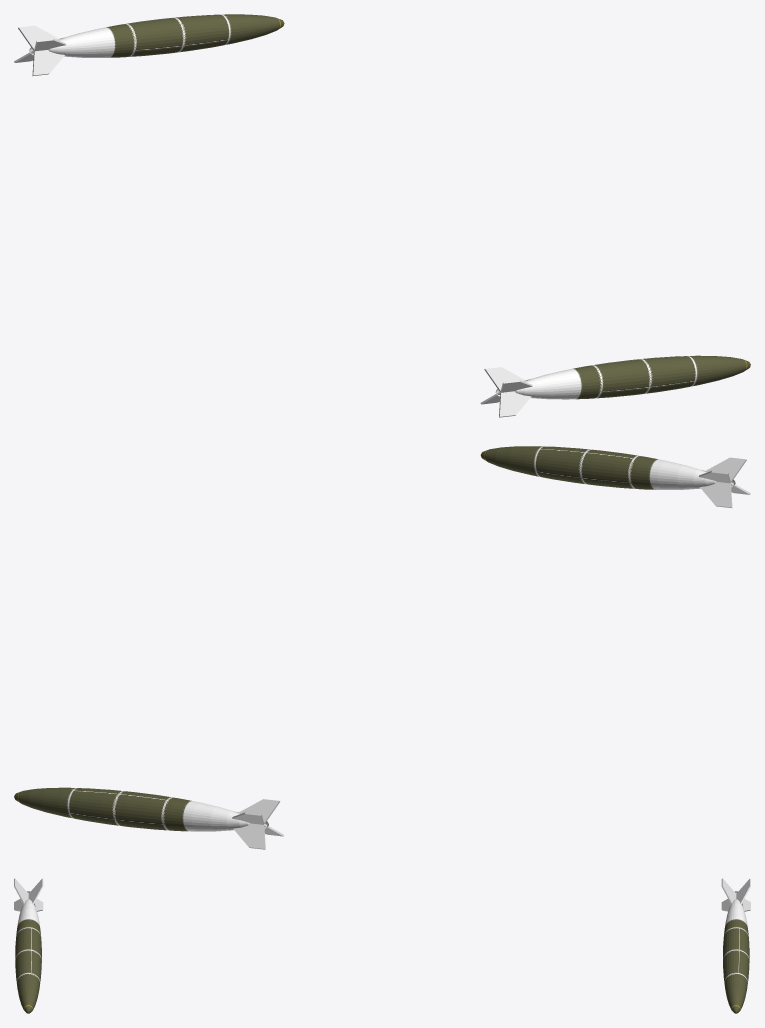
The model's file is a10cgbu31111.glb.
The picture shows the model from 3 angles, top to bottom: view 1: azimuth 30°, elevation 25°; view 2: azimuth 150°, elevation 25°; view 3: azimuth 270°, elevation 25°; orthographic projection. The views are drawn at different scales.
Visible parts, largest first — view 1: 立方体.009, 立方体.010; view 2: 立方体.010, 立方体.009; view 3: 立方体.010, 立方体.009.
Part boxes in pixels (x1,y1,x2,y2): 立方体.009: (480,355,750,417); 立方体.010: (14,14,284,76); 立方体.010: (14,787,284,849); 立方体.009: (480,446,750,508); 立方体.010: (721,878,750,1013); 立方体.009: (14,878,43,1013).
Bounding box in the file's own units: 3.8 × 0.813 × 12.27.
Materials: 1 (1 with a texture image).
